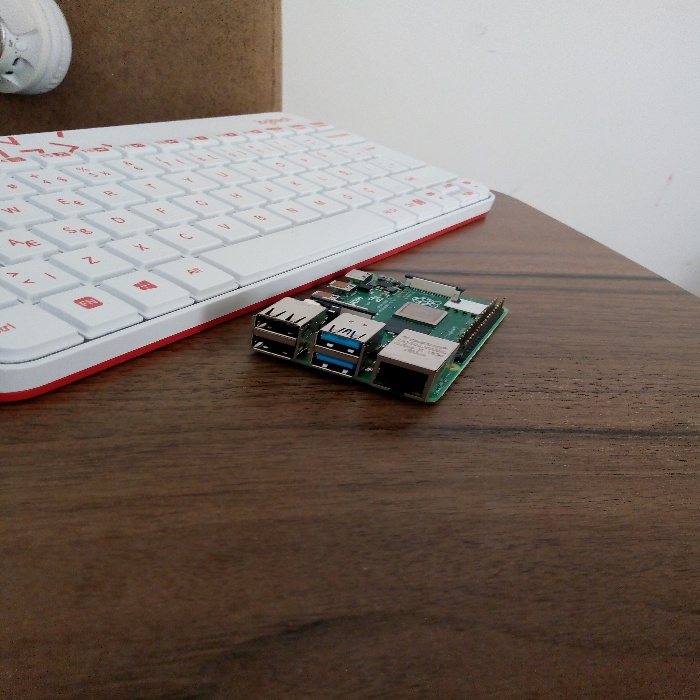raspberry: (238, 260, 536, 406)
